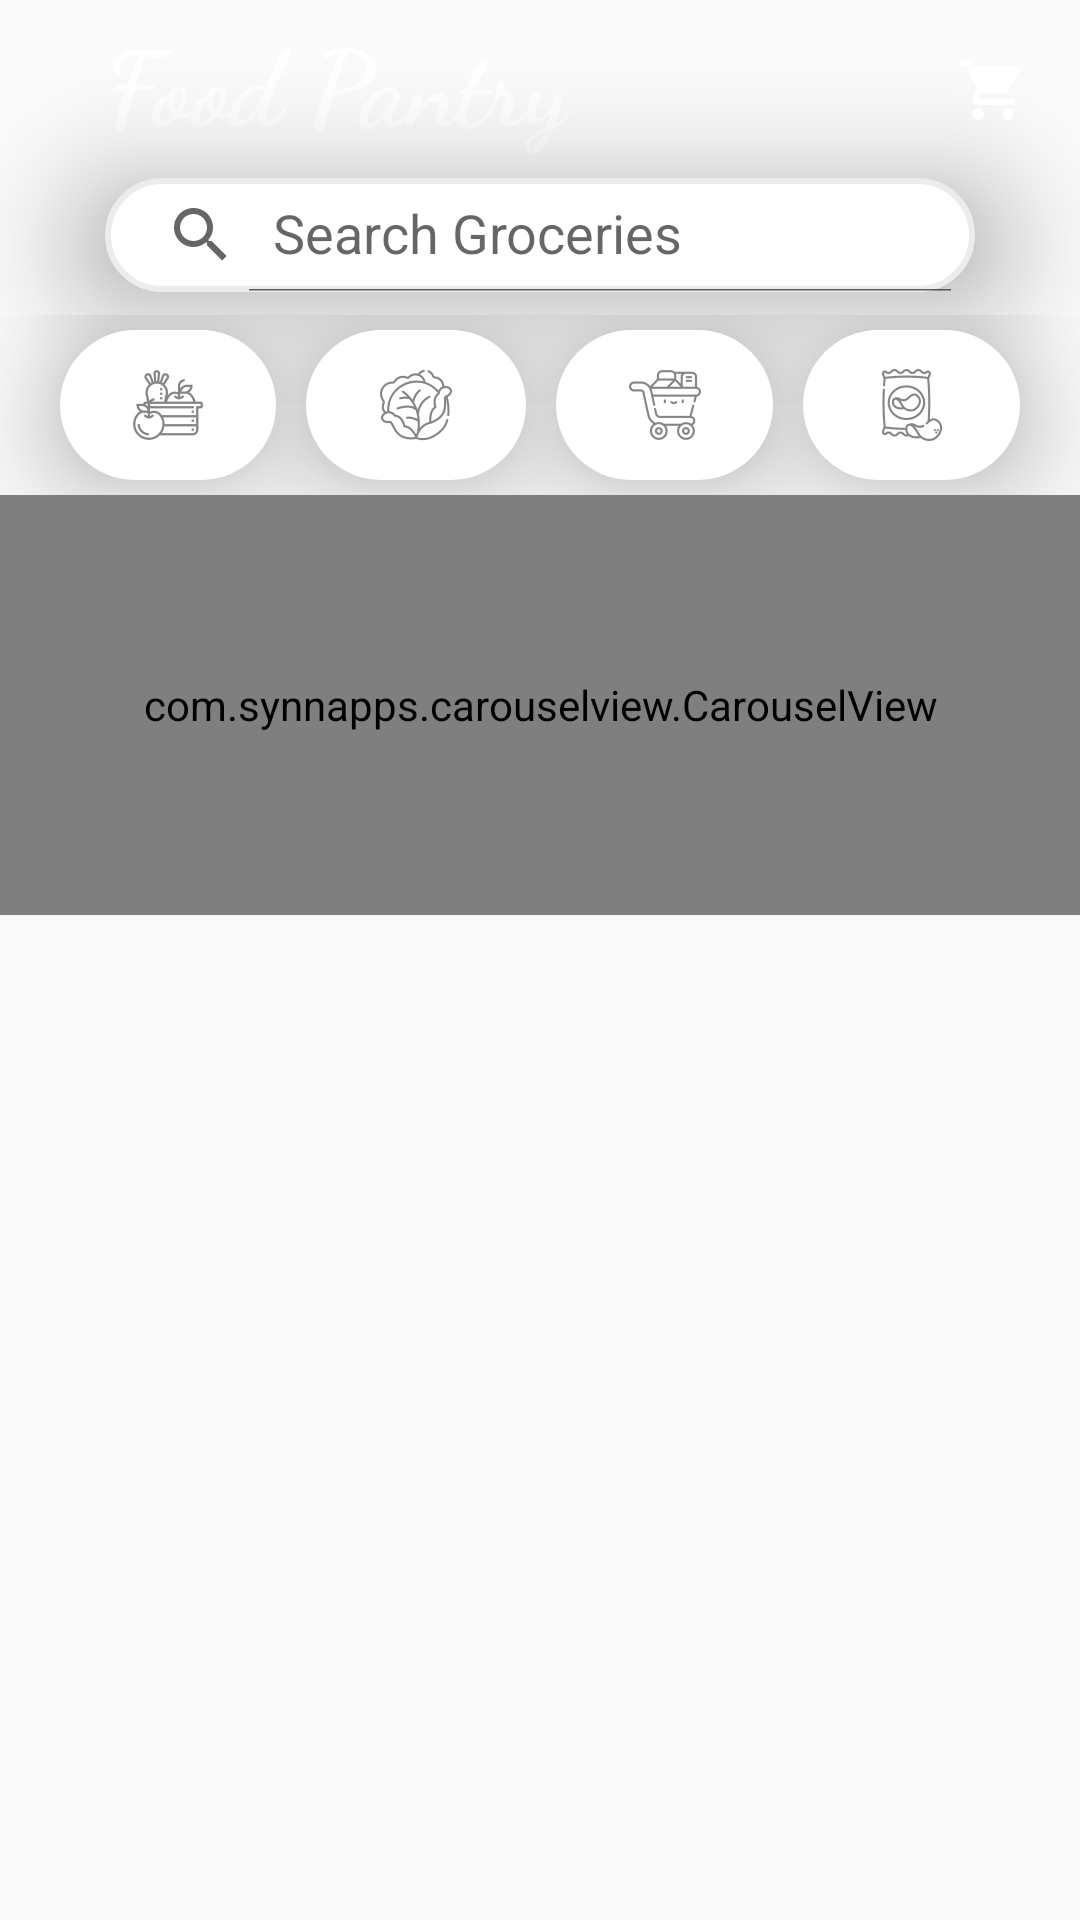

Named icons in this screenshot (1080 x 1920) and their bounding boxes, bbox=[x1, y1, x2, y2]:
fruit: bbox=[60, 330, 276, 480]
grocery: bbox=[556, 330, 773, 480]
snacks: bbox=[803, 330, 1020, 480]
vegitables: bbox=[306, 330, 526, 480]
